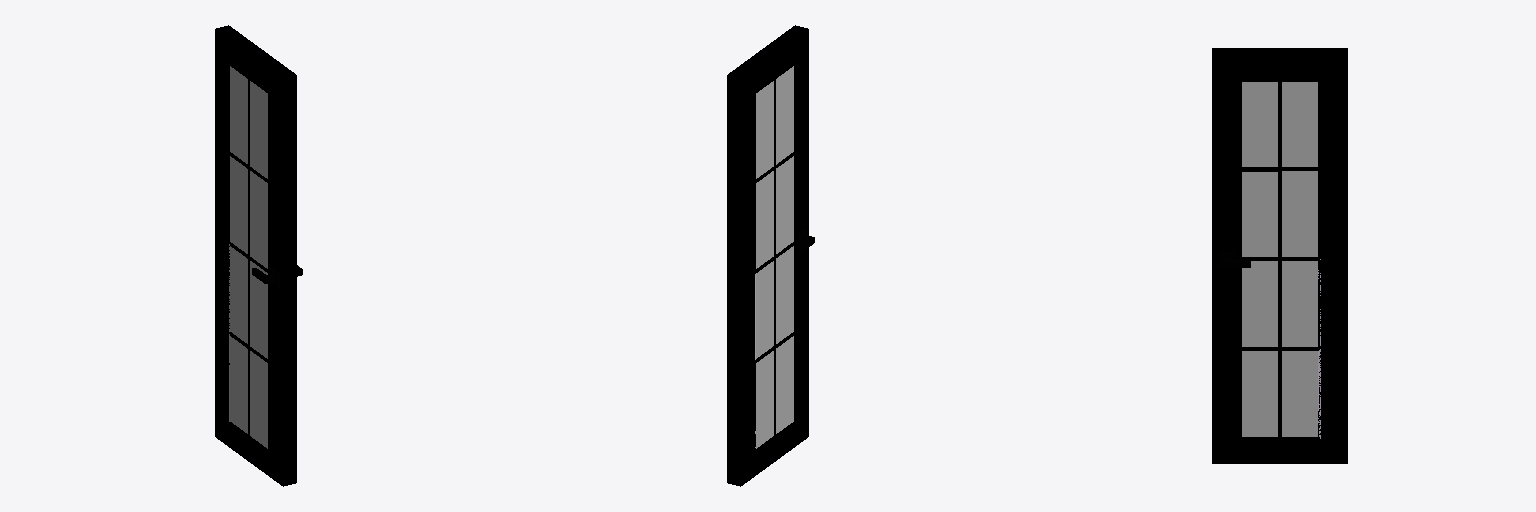
File: door602_black.obj
The picture shows the model from 3 angles: view 1: azimuth 30°, elevation 25°; view 2: azimuth 150°, elevation 25°; view 3: azimuth 270°, elevation 25°; orthographic projection.
Visible parts, largest first — view 1: Cube; view 2: Cube; view 3: Cube.
Boxes of the visible parts, box(x1,y1,x2,y2) form: Cube: box(215, 25, 302, 486); Cube: box(727, 25, 814, 486); Cube: box(1212, 48, 1347, 463).
Size of the model in its own units: 0.1899 by 2 by 0.5999.